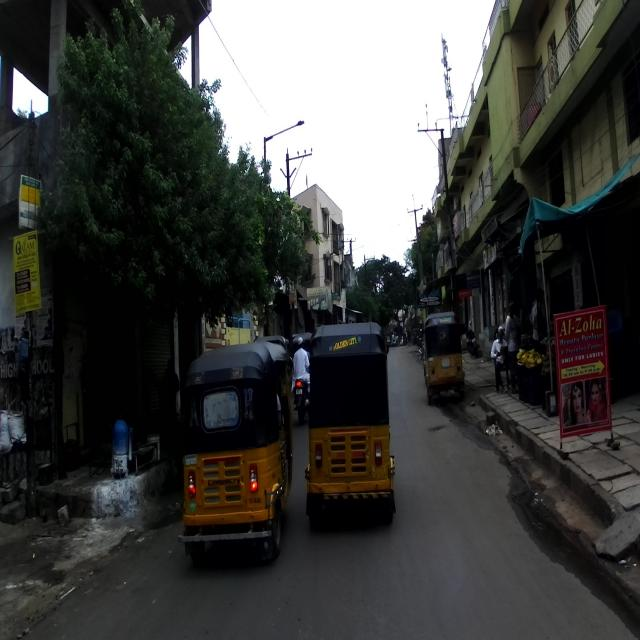autorickshaw: (178, 341, 293, 563), (304, 322, 396, 527)
